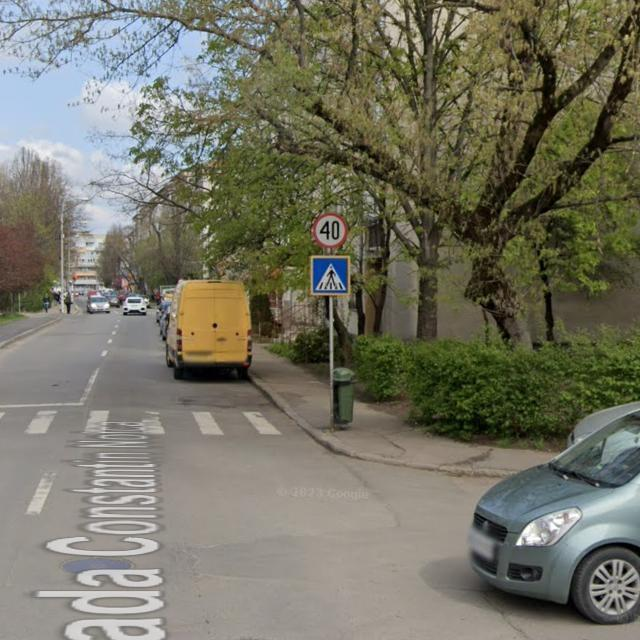forb_speed_over_40: (312, 213, 348, 249)
info_crosswalk: (310, 256, 352, 297)
